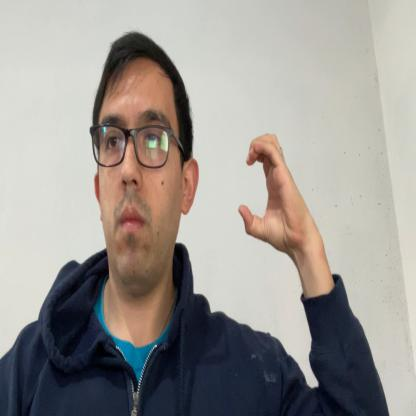C: (238, 130, 300, 252)
